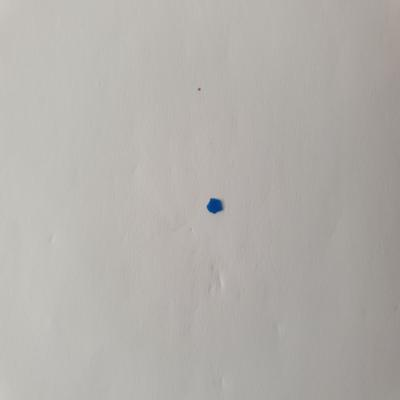plastic: (203, 193, 228, 218)
